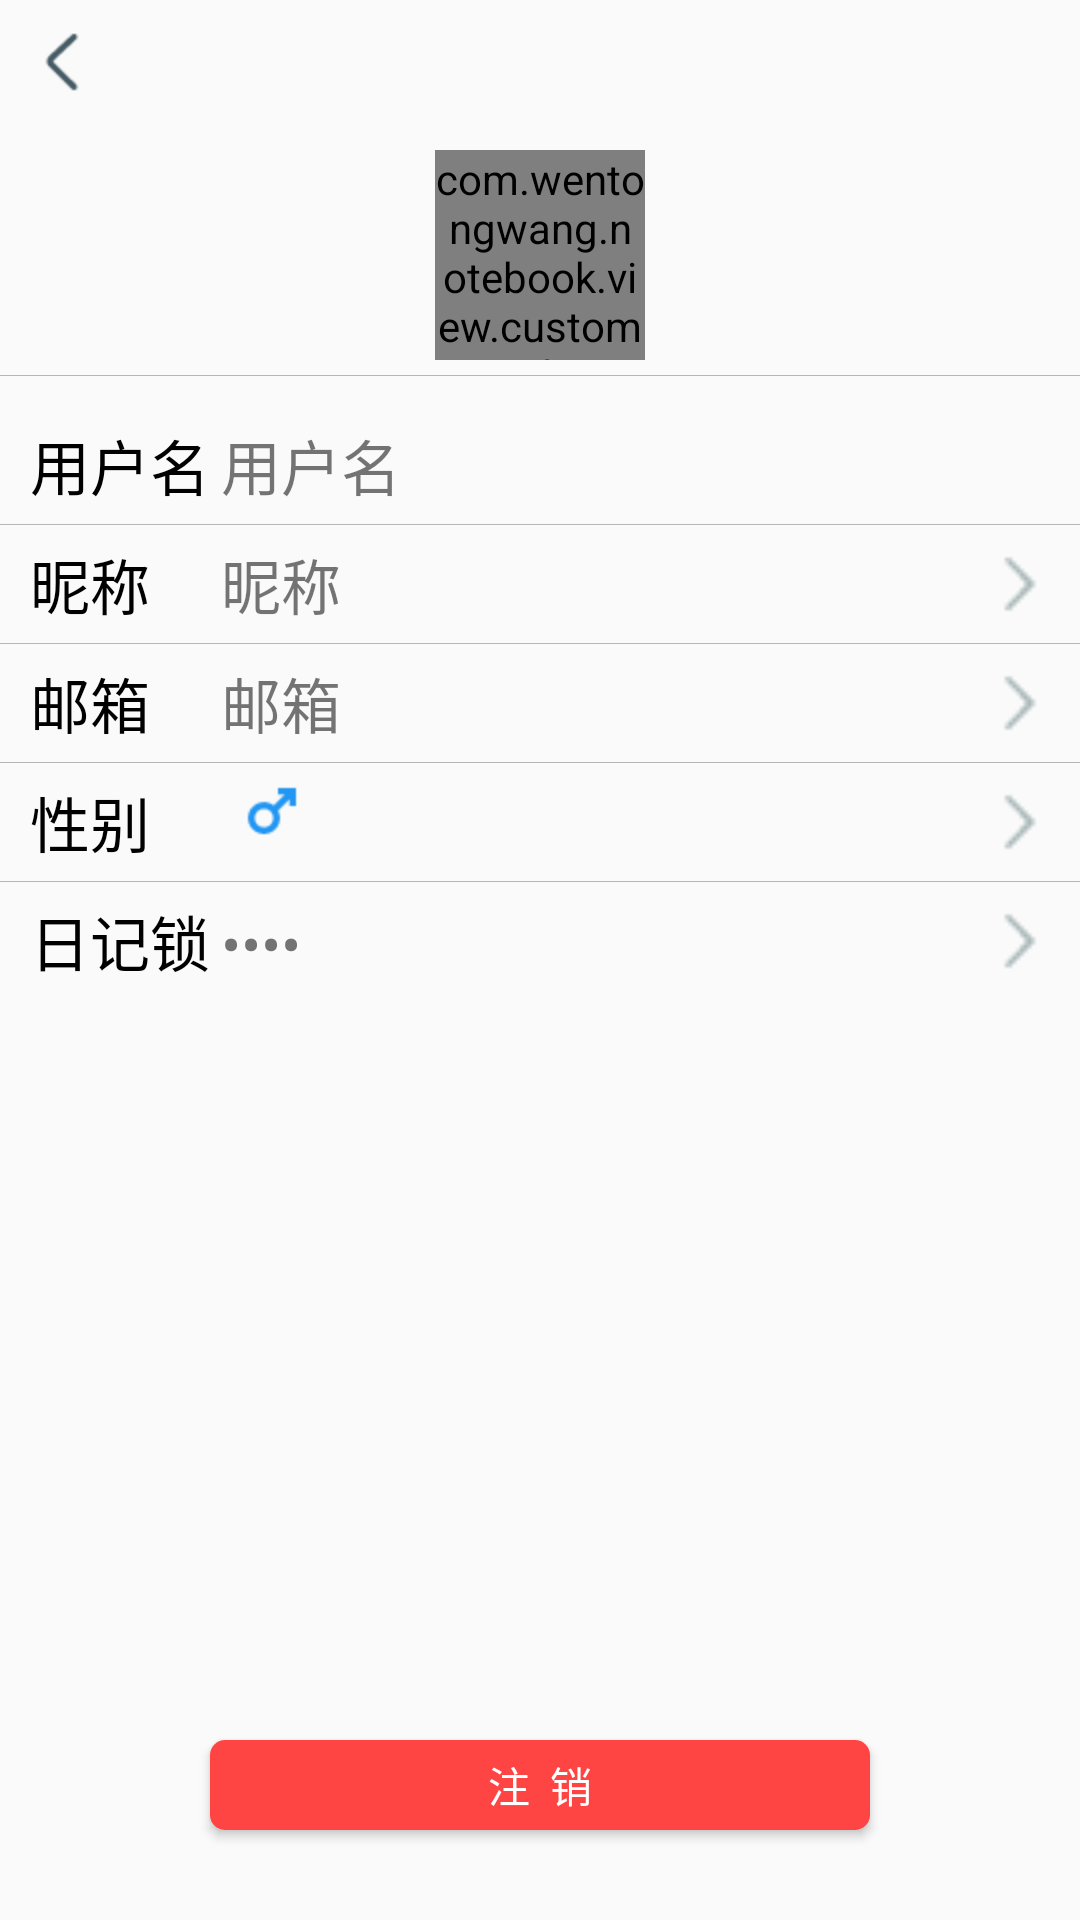

Icons on this 1080px x 1920px Android screen, each with its box as (x1, y1, x2, y2):
back: (46, 33, 78, 91)
male: (247, 787, 297, 835)
to right: (1005, 558, 1035, 610), (1005, 677, 1035, 729), (1005, 796, 1035, 848), (1005, 915, 1035, 967)
